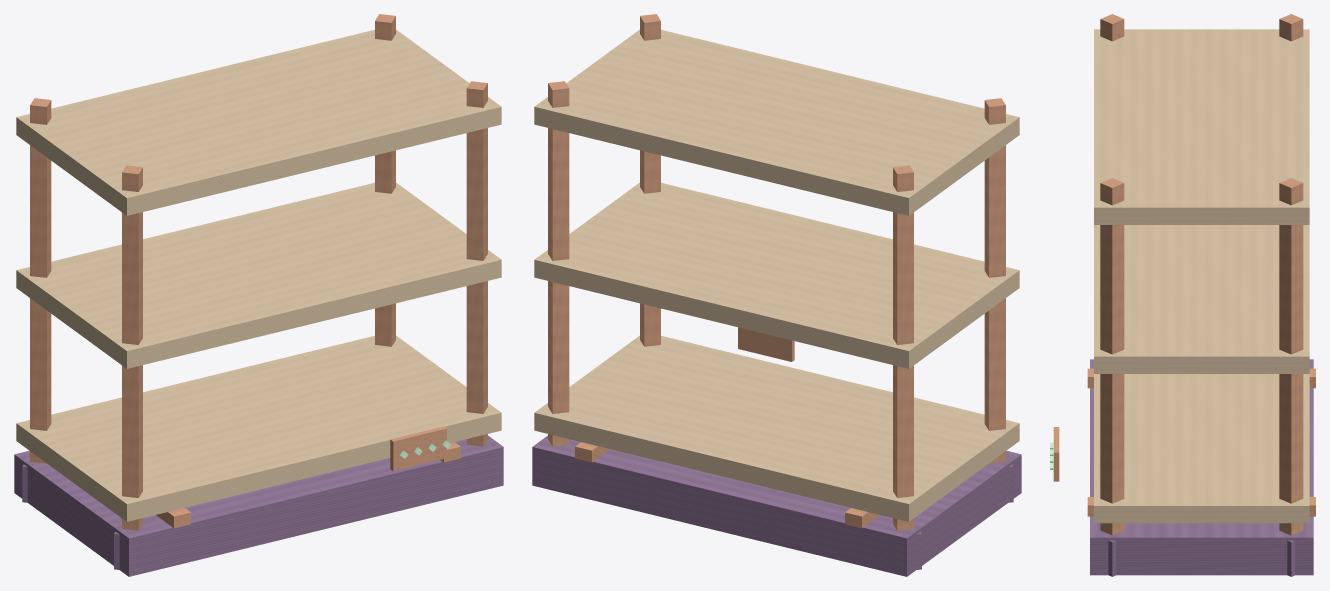
File: atlas100-s083-a06.glb
3 views of the same model, side by side, from view 1: azimuth 30°, elevation 25°; view 2: azimuth 150°, elevation 25°; view 3: azimuth 270°, elevation 25° (orthographic). The views are drawn at different scales.
Parts seen in each view (by area): view 1: atlas100-s083-a06:part-013, atlas100-s083-a06:part-012, atlas100-s083-a06:part-011, atlas100-s083-a06:part-000, atlas100-s083-a06:part-009, atlas100-s083-a06:part-005, atlas100-s083-a06:part-003, atlas100-s083-a06:part-007, atlas100-s083-a06:part-014; view 2: atlas100-s083-a06:part-013, atlas100-s083-a06:part-011, atlas100-s083-a06:part-012, atlas100-s083-a06:part-000, atlas100-s083-a06:part-007, atlas100-s083-a06:part-003, atlas100-s083-a06:part-005, atlas100-s083-a06:part-009, atlas100-s083-a06:part-014; view 3: atlas100-s083-a06:part-013, atlas100-s083-a06:part-011, atlas100-s083-a06:part-012, atlas100-s083-a06:part-000, atlas100-s083-a06:part-007, atlas100-s083-a06:part-009, atlas100-s083-a06:part-005, atlas100-s083-a06:part-003, atlas100-s083-a06:part-014.
Boxes of the visible parts, x1,y1,x2,y2 form: atlas100-s083-a06:part-013: [16, 29, 501, 215]; atlas100-s083-a06:part-012: [16, 182, 501, 368]; atlas100-s083-a06:part-011: [16, 335, 501, 521]; atlas100-s083-a06:part-000: [14, 435, 503, 576]; atlas100-s083-a06:part-009: [466, 81, 487, 446]; atlas100-s083-a06:part-005: [122, 165, 142, 530]; atlas100-s083-a06:part-003: [30, 98, 51, 463]; atlas100-s083-a06:part-007: [375, 14, 395, 346]; atlas100-s083-a06:part-014: [390, 426, 446, 471]; atlas100-s083-a06:part-013: [534, 29, 1019, 215]; atlas100-s083-a06:part-011: [534, 335, 1019, 521]; atlas100-s083-a06:part-012: [534, 182, 1019, 368]; atlas100-s083-a06:part-000: [532, 435, 1021, 576]; atlas100-s083-a06:part-007: [548, 81, 569, 446]; atlas100-s083-a06:part-003: [893, 165, 913, 530]; atlas100-s083-a06:part-005: [984, 98, 1005, 463]; atlas100-s083-a06:part-009: [640, 14, 660, 346]; atlas100-s083-a06:part-014: [738, 327, 794, 361]; atlas100-s083-a06:part-013: [1094, 29, 1309, 224]; atlas100-s083-a06:part-011: [1094, 374, 1309, 523]; atlas100-s083-a06:part-012: [1094, 225, 1309, 373]; atlas100-s083-a06:part-000: [1090, 359, 1313, 575]; atlas100-s083-a06:part-007: [1279, 178, 1303, 535]; atlas100-s083-a06:part-009: [1100, 178, 1124, 535]; atlas100-s083-a06:part-005: [1100, 14, 1124, 41]; atlas100-s083-a06:part-003: [1279, 14, 1303, 41]; atlas100-s083-a06:part-014: [1053, 427, 1059, 481].
Size of the model in its own units: 2.69 by 2.66 by 1.66.
4 materials, 4 textured.
